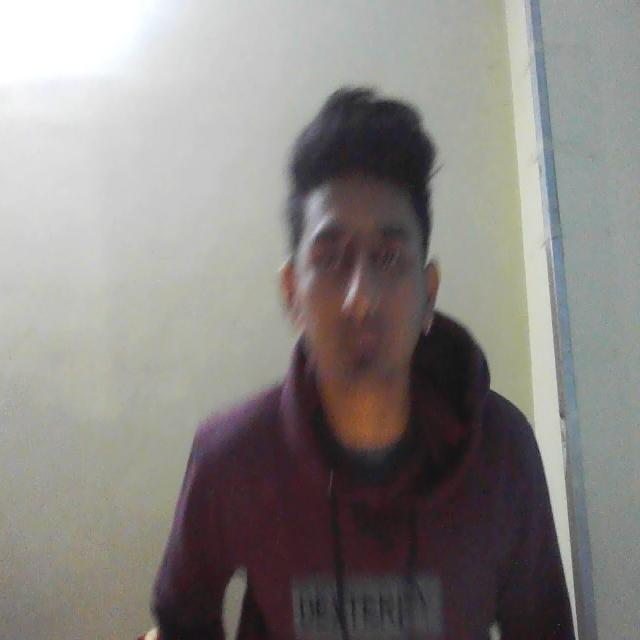real: (279, 104, 450, 428)
